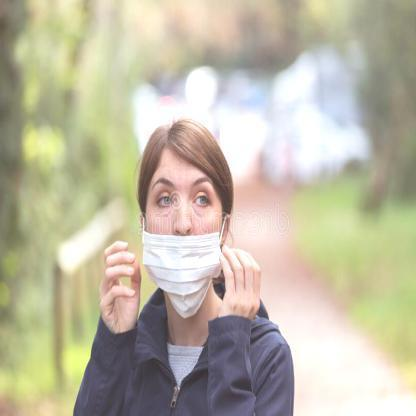mask_weared_incorrect: (136, 136, 236, 322)
